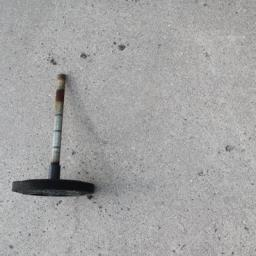FOD: (11, 73, 100, 203)
